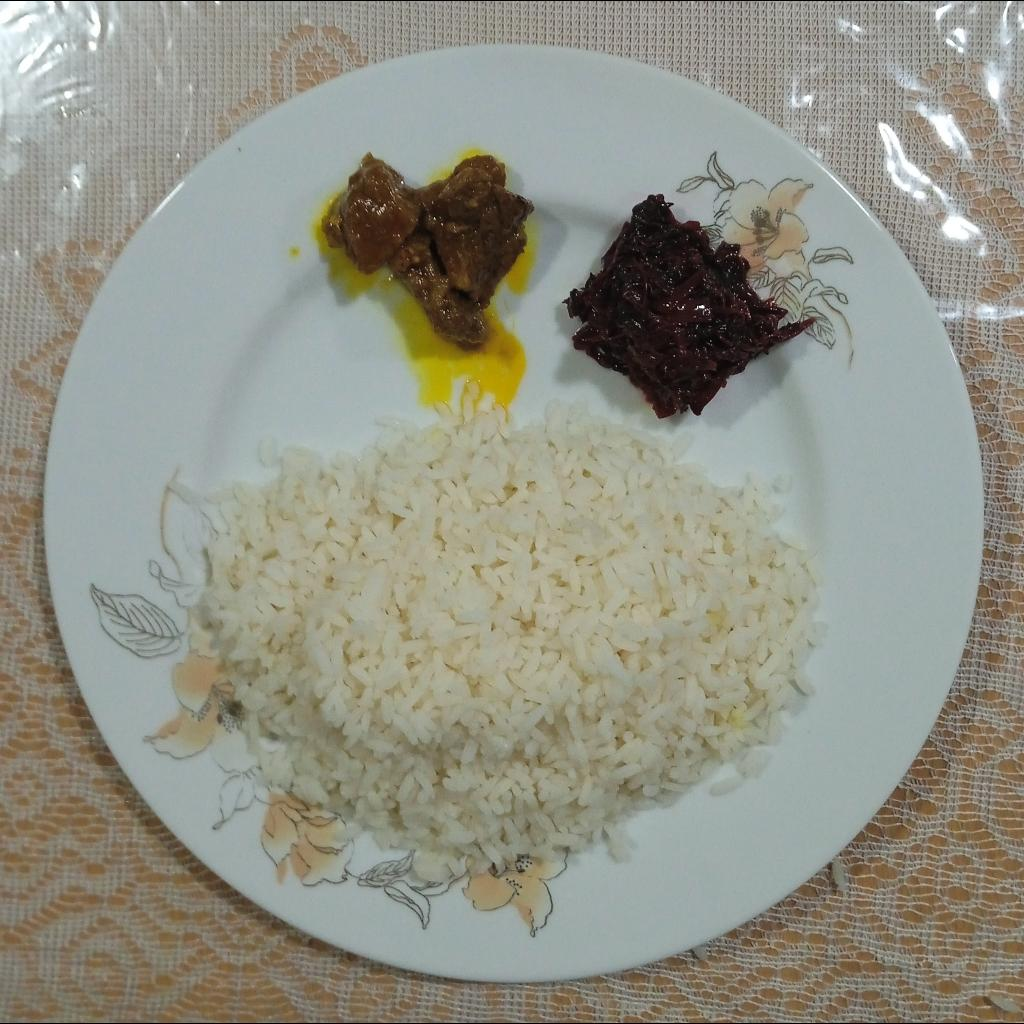beef: (323, 152, 535, 346)
rice: (169, 387, 822, 880)
shak: (564, 194, 815, 420)
